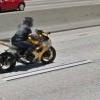Motorcycle: (7, 13, 60, 84)
